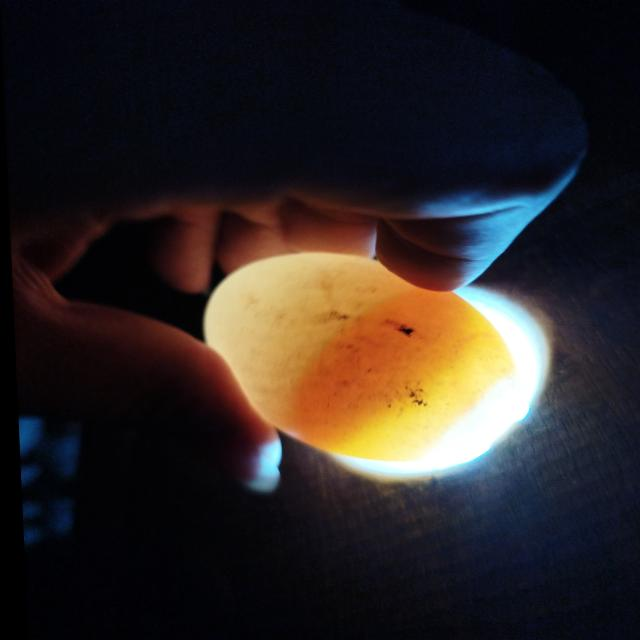Gema Quebrada: (288, 289, 474, 453)
